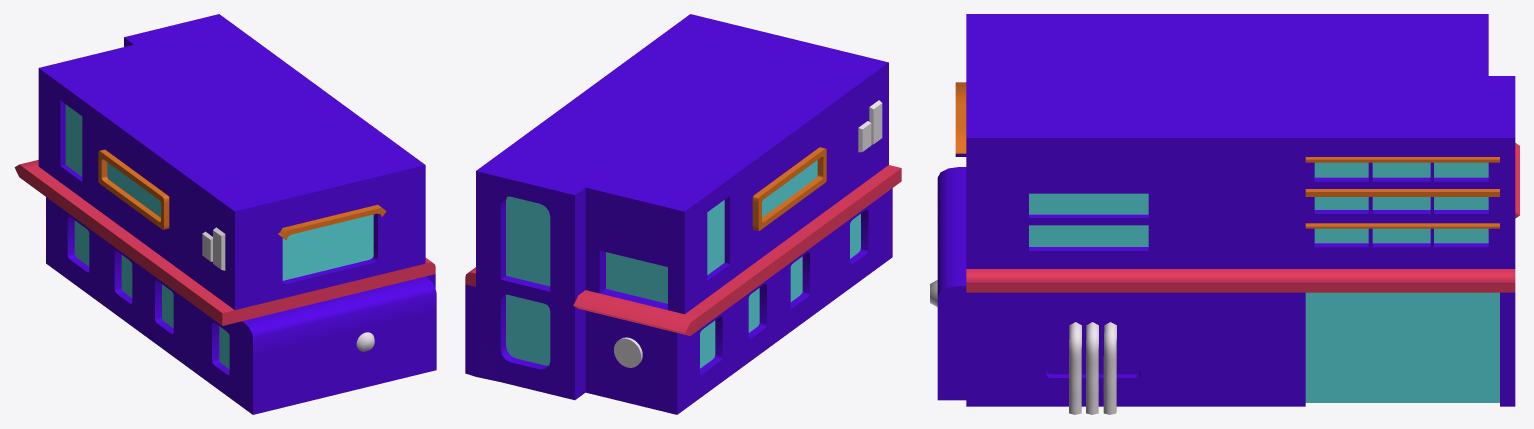
The model's file is FBX_LC_mHouse1.fbx.
3 renders of one model, left to right at view 1: azimuth 30°, elevation 25°; view 2: azimuth 150°, elevation 25°; view 3: azimuth 270°, elevation 25°, orthographic. The views are drawn at different scales.
Parts seen in each view (by area): view 1: Cube.007; view 2: Cube.007; view 3: Cube.007.
Part boxes in pixels (x1,y1,x2,y2): Cube.007: (14, 14, 436, 414); Cube.007: (465, 14, 901, 414); Cube.007: (930, 14, 1519, 414).
Bounding box in the file's own units: 1276 × 1069 × 2171.
